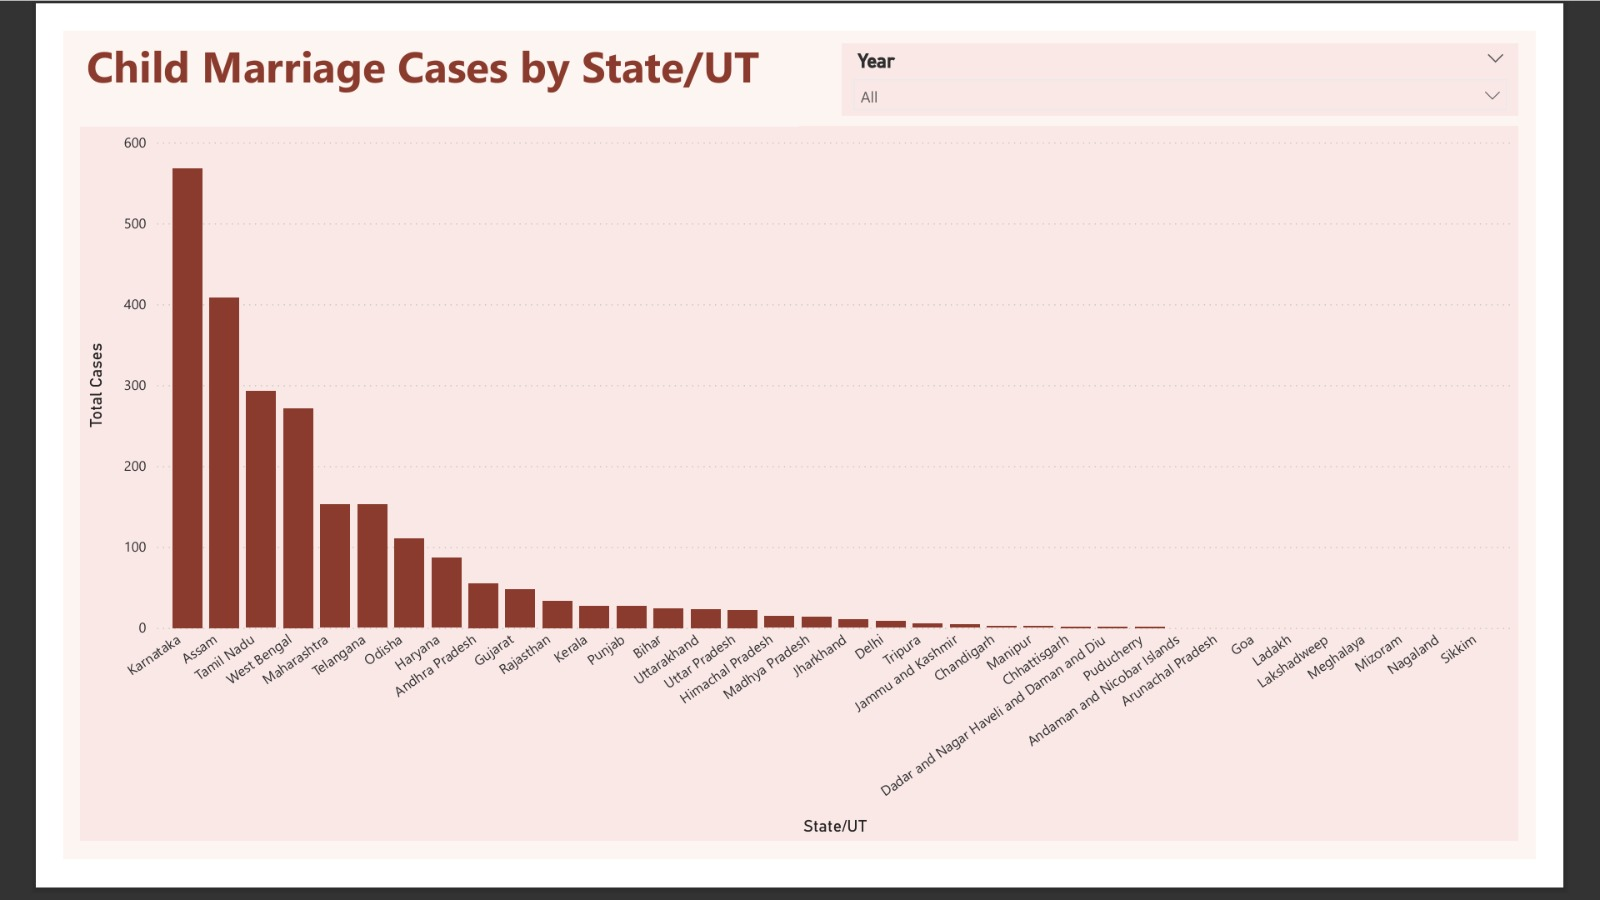

The page's visual inventory and layout, read from the dashboard file:
{"tool":"powerbi","page":{"name":"State/UT-wise","canvas":[1280,720],"ordinal":1},"visuals":[{"type":"columnChart","fields":{"Category":["Child Marriage Data.State/UT"],"Y":["Child Marriage Data.Total_CR"]},"box":[14.6,82.6,1250,621.8],"z":0},{"type":"textbox","box":[14.6,0,625,82.6],"z":1000},{"type":"slicer","fields":{"Values":["Child Marriage Data.Year"]},"box":[676.8,11.3,587.8,63.1],"z":2000}]}

Visuals, with their boxes in screenshot pixels (x1, y1, x2, y2), scaled from the page's 1280x720 canvas onto the 1600x900 screenshot:
columnChart - Child Marriage Data.State/UT x Child Marriage Data.Total_CR: <region>18, 103, 1581, 880</region>
textbox: <region>18, 0, 800, 103</region>
slicer - Child Marriage Data.Year: <region>846, 14, 1581, 93</region>
